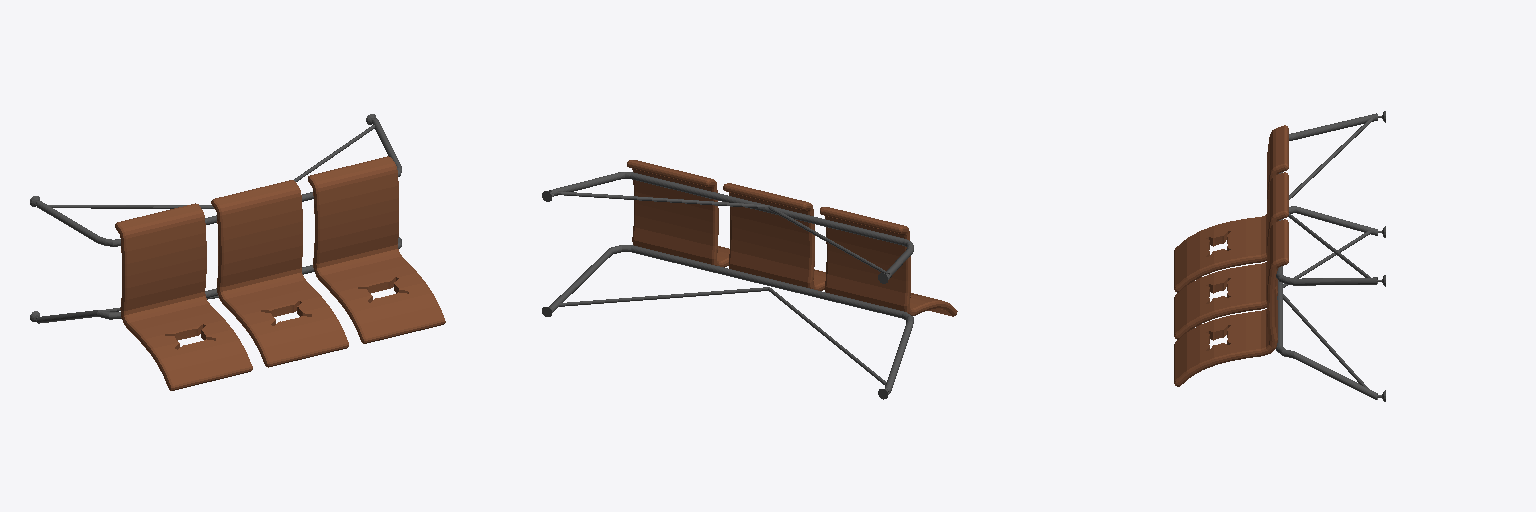
File: sofa3plazas.obj
3 renders of one model, left to right at view 1: azimuth 30°, elevation 25°; view 2: azimuth 150°, elevation 25°; view 3: azimuth 270°, elevation 25°, orthographic.
Parts seen in each view (by area): view 1: sofa-furni; view 2: sofa-furni; view 3: sofa-furni.
Part boxes in pixels (x1,y1,x2,y2): sofa-furni: (30, 114, 445, 390); sofa-furni: (542, 160, 957, 399); sofa-furni: (1174, 111, 1385, 401).
Size of the model in its own units: 3.66 by 1.3 by 1.93.